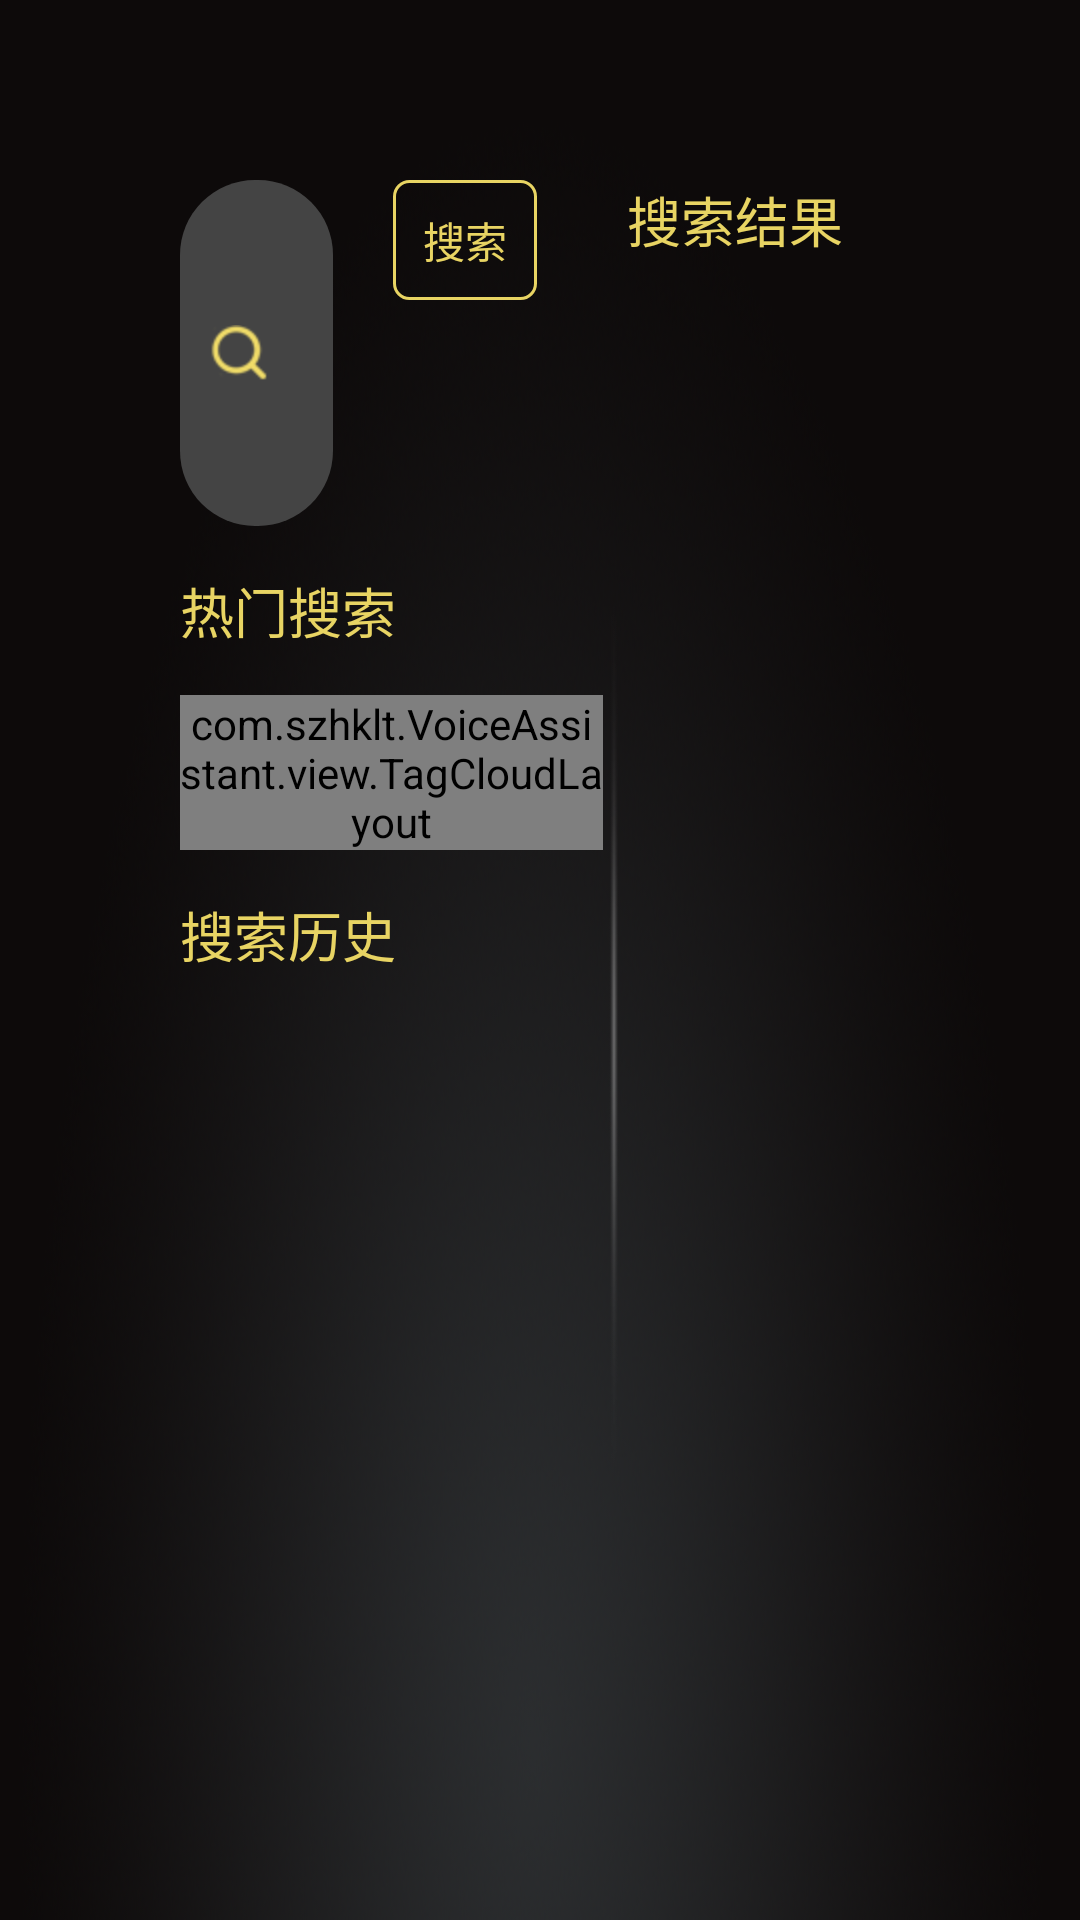

Icons on this 1080x1920 Android screen, each with the point to tap as (x,y):
search: (239,352)
